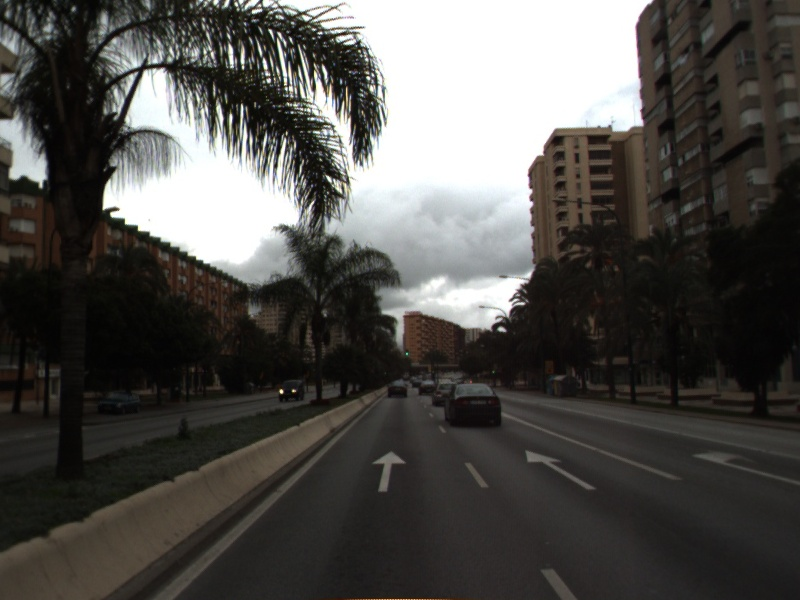RIGHT: (690, 445, 800, 485)
STRAIGHT: (523, 448, 599, 492), (370, 449, 409, 494)
